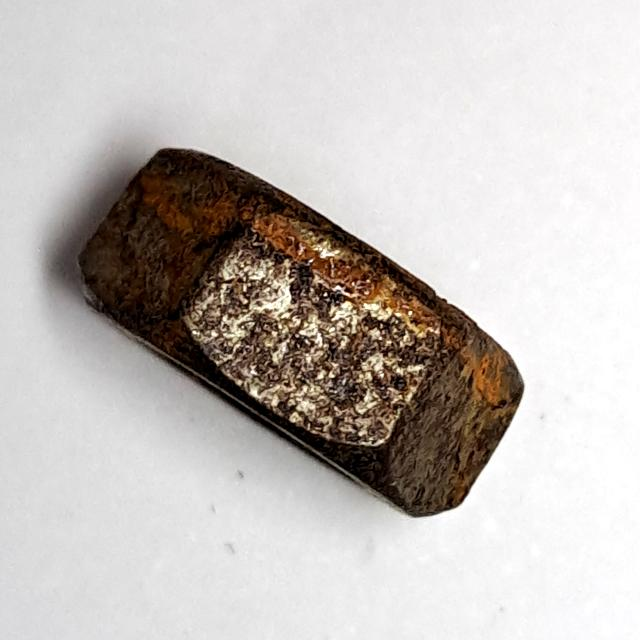Side_Rust: (66, 138, 545, 536)
